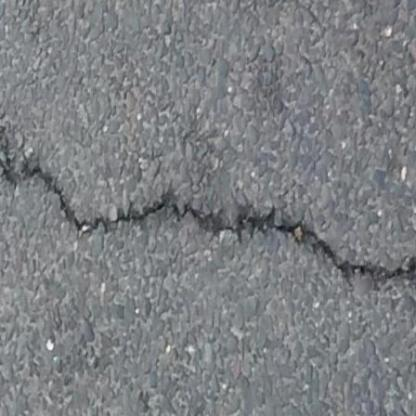Cracks: (0, 90, 414, 309)
